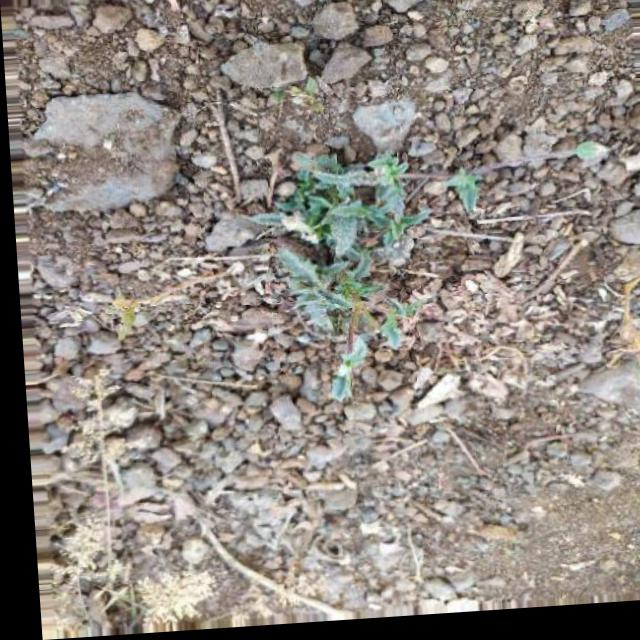weed: (255, 144, 504, 372)
